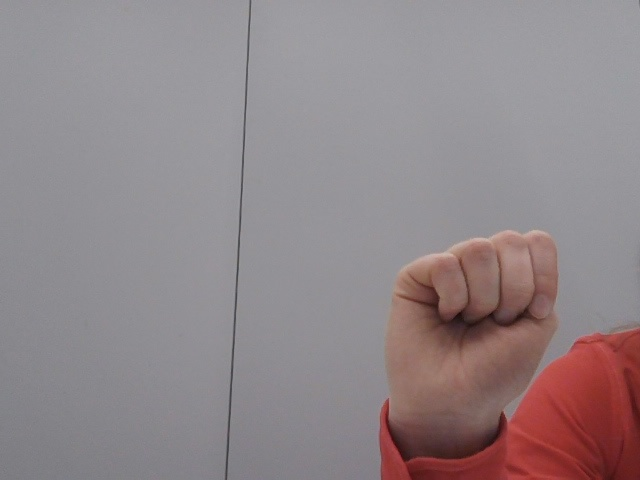down: (361, 200, 580, 480)
